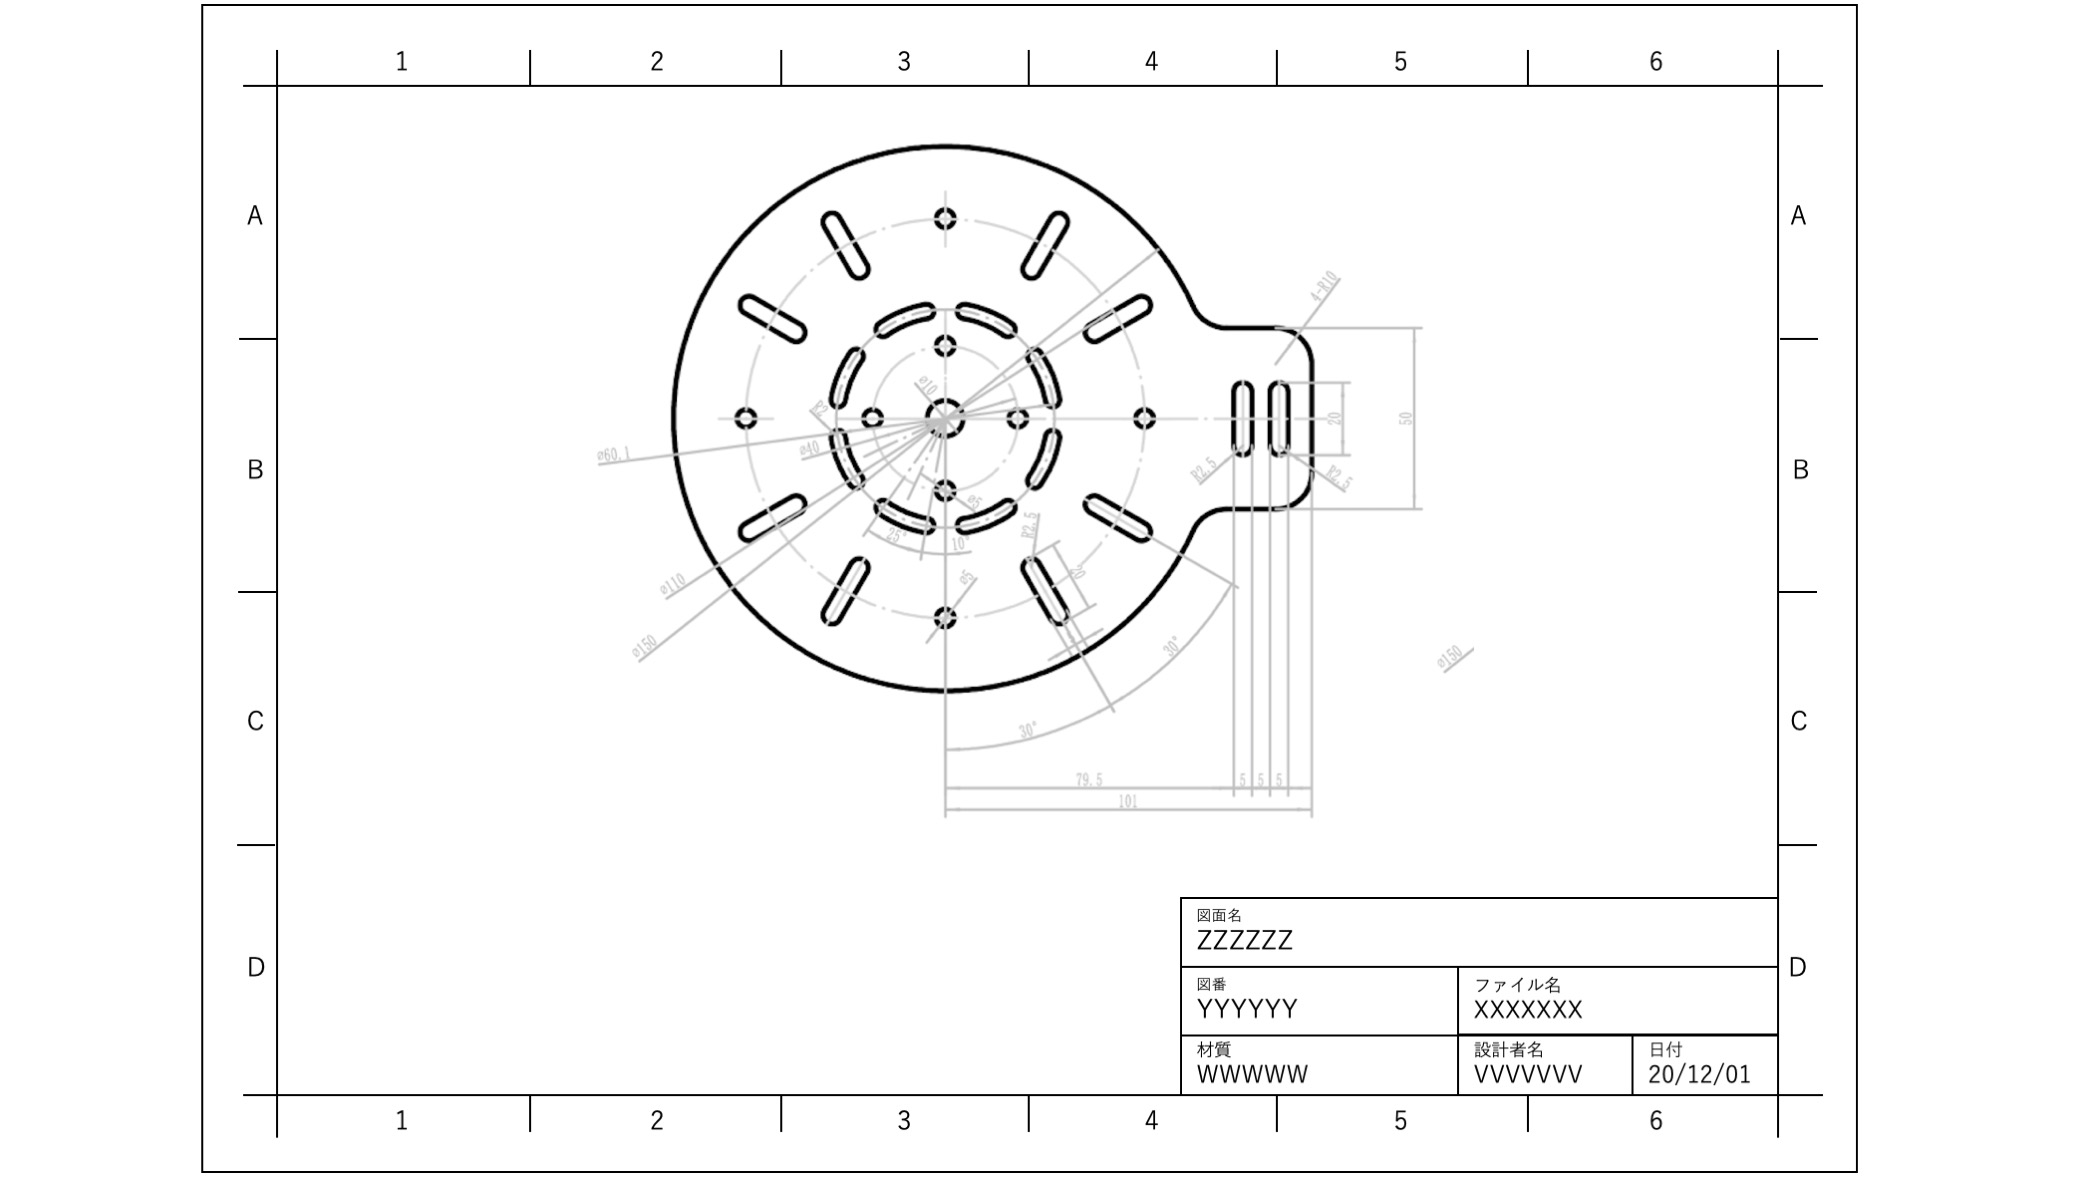circle: (926, 388, 966, 438), (736, 397, 766, 448), (927, 198, 961, 239), (930, 596, 961, 634), (932, 470, 961, 506), (1129, 395, 1155, 434), (861, 397, 884, 433), (1010, 397, 1034, 430), (935, 332, 965, 350)
round_rectangle: (1076, 283, 1157, 346), (1077, 486, 1162, 545), (819, 545, 875, 634), (736, 283, 812, 345), (731, 485, 809, 544), (819, 202, 875, 283), (1015, 549, 1072, 629), (1015, 202, 1070, 283), (870, 487, 940, 541), (953, 490, 1020, 547), (825, 336, 871, 407), (824, 423, 870, 493), (870, 294, 940, 337), (1225, 373, 1259, 460), (940, 300, 1018, 336), (1261, 373, 1292, 459), (1024, 425, 1062, 495), (1024, 346, 1062, 407)
